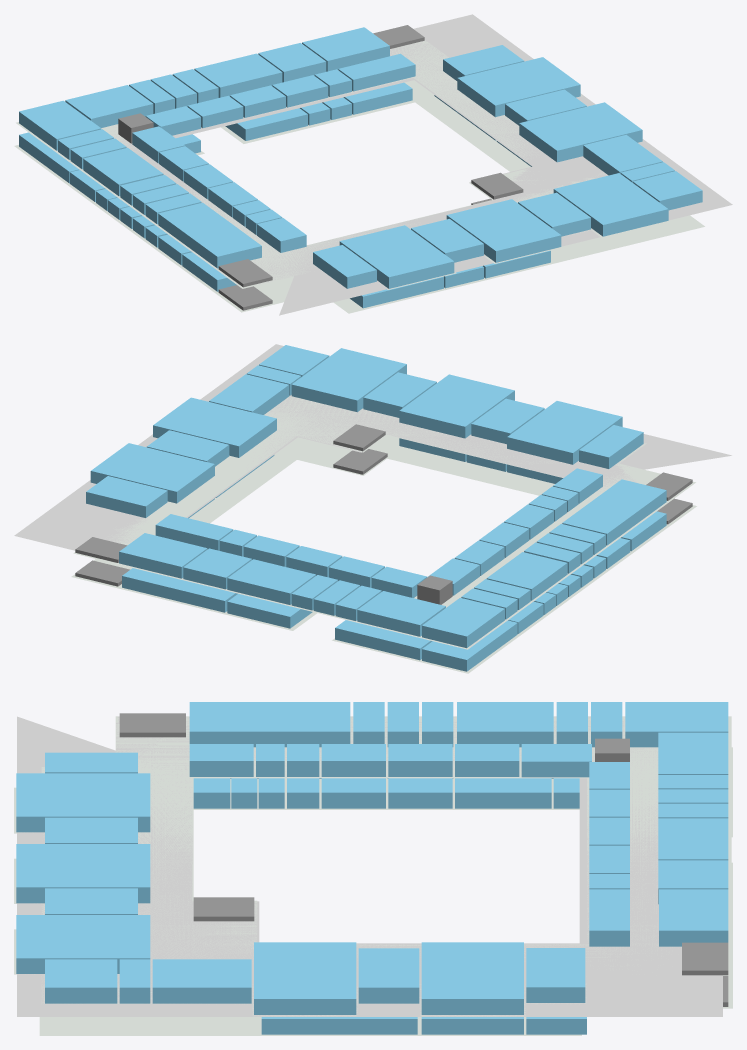
The model's file is building.glb.
The picture shows the model from 3 angles, top to bottom: view 1: azimuth 30°, elevation 25°; view 2: azimuth 150°, elevation 25°; view 3: azimuth 270°, elevation 25°; orthographic projection. The views are drawn at different scales.
Parts seen in each view (by area): view 1: Plane.001, floor_2, floor_2.001, room_2.10, room_2.05, room_2.07, room_2.50, room_2.48, room_2.18, room_2.36, room_2.43, room_2.30 (+45 smaller); view 2: Plane.001, floor_2, floor_2.001, room_2.07, room_2.05, room_2.10, room_2.48, room_2.50, room_2.18, room_2.29, room_2.30, room_2.36 (+44 smaller); view 3: Plane.001, floor_2, room_2.48, room_2.50, floor_2.001, room_2.18, room_2.07, room_2.10, room_2.05, room_2.51, room_2.26, room_2.43 (+47 smaller).
Boxes of the visible parts, x1=… form: Plane.001: x1=103, y1=14, x2=732, y2=315; floor_2: x1=16, y1=40, x2=681, y2=289; floor_2.001: x1=14, y1=80, x2=704, y2=313; room_2.10: x1=339, y1=225, x2=454, y2=288; room_2.05: x1=553, y1=173, x2=668, y2=236; room_2.07: x1=446, y1=199, x2=561, y2=262; room_2.50: x1=519, y1=102, x2=642, y2=162; room_2.48: x1=457, y1=57, x2=580, y2=117; room_2.18: x1=158, y1=202, x2=261, y2=268; room_2.36: x1=194, y1=53, x2=282, y2=97; room_2.43: x1=302, y1=27, x2=389, y2=71; room_2.30: x1=65, y1=85, x2=153, y2=127; Plane.001: x1=14, y1=344, x2=731, y2=646; floor_2: x1=73, y1=395, x2=695, y2=649; floor_2.001: x1=71, y1=435, x2=696, y2=673; room_2.07: x1=399, y1=374, x2=514, y2=438; room_2.05: x1=291, y1=348, x2=406, y2=412; room_2.10: x1=507, y1=401, x2=622, y2=464; room_2.48: x1=90, y1=443, x2=214, y2=503; room_2.50: x1=153, y1=397, x2=276, y2=457; room_2.18: x1=562, y1=479, x2=666, y2=545; room_2.29: x1=422, y1=597, x2=504, y2=648; room_2.30: x1=357, y1=591, x2=445, y2=636; room_2.36: x1=227, y1=559, x2=315, y2=604; Plane.001: x1=17, y1=716, x2=722, y2=1016; floor_2: x1=14, y1=716, x2=731, y2=1016; room_2.48: x1=421, y1=942, x2=523, y2=1014; room_2.50: x1=254, y1=942, x2=356, y2=1014; floor_2.001: x1=39, y1=747, x2=732, y2=1035; room_2.18: x1=189, y1=702, x2=350, y2=747; room_2.07: x1=16, y1=844, x2=150, y2=903; room_2.10: x1=16, y1=773, x2=150, y2=832; room_2.05: x1=16, y1=915, x2=150, y2=973; room_2.51: x1=152, y1=959, x2=251, y2=1003; room_2.26: x1=457, y1=702, x2=553, y2=747; room_2.43: x1=659, y1=889, x2=728, y2=946.
Size of the model in its own units: 61.18 by 5 by 61.75.
